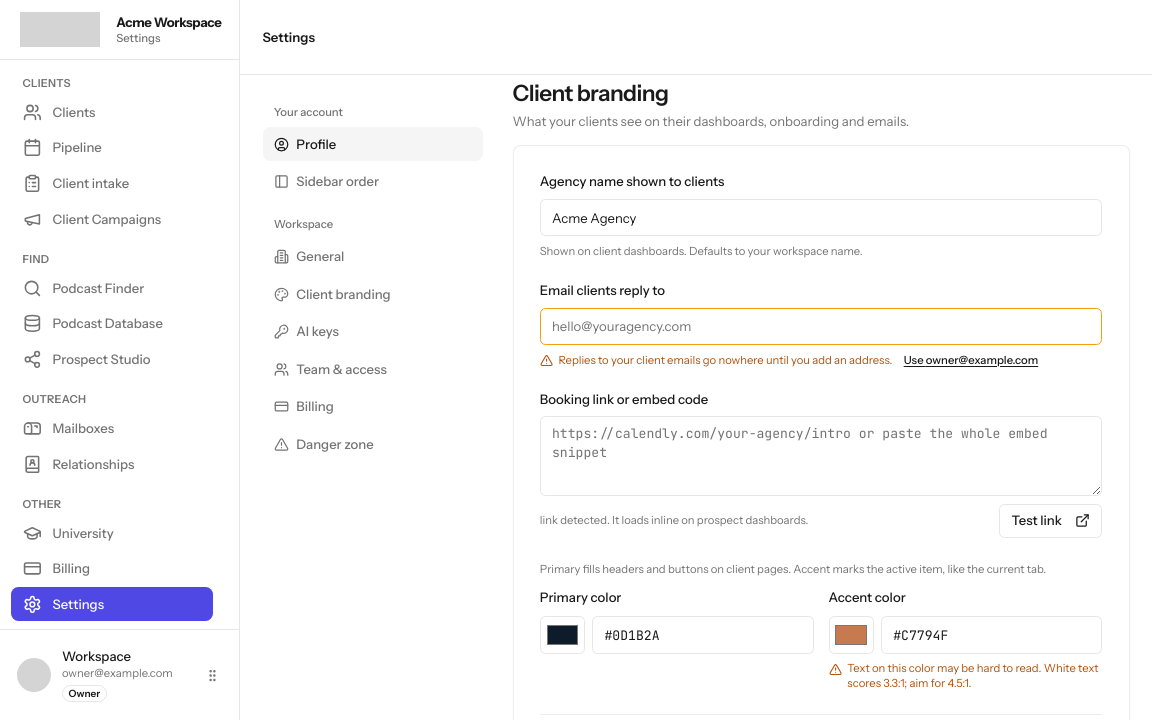
WorkspaceStaff › warns while the reply-to email is empty and offers the owner address
(page scrolled)
Check: the text "Replies to your client emails go nowhere until you add an address." is shown, box [540, 353, 892, 368]
What coordinates should you click on to do the following:
click the button "Use owner@example.com"
I would click on:
 (971, 360)
Its box is [904, 353, 1038, 368].
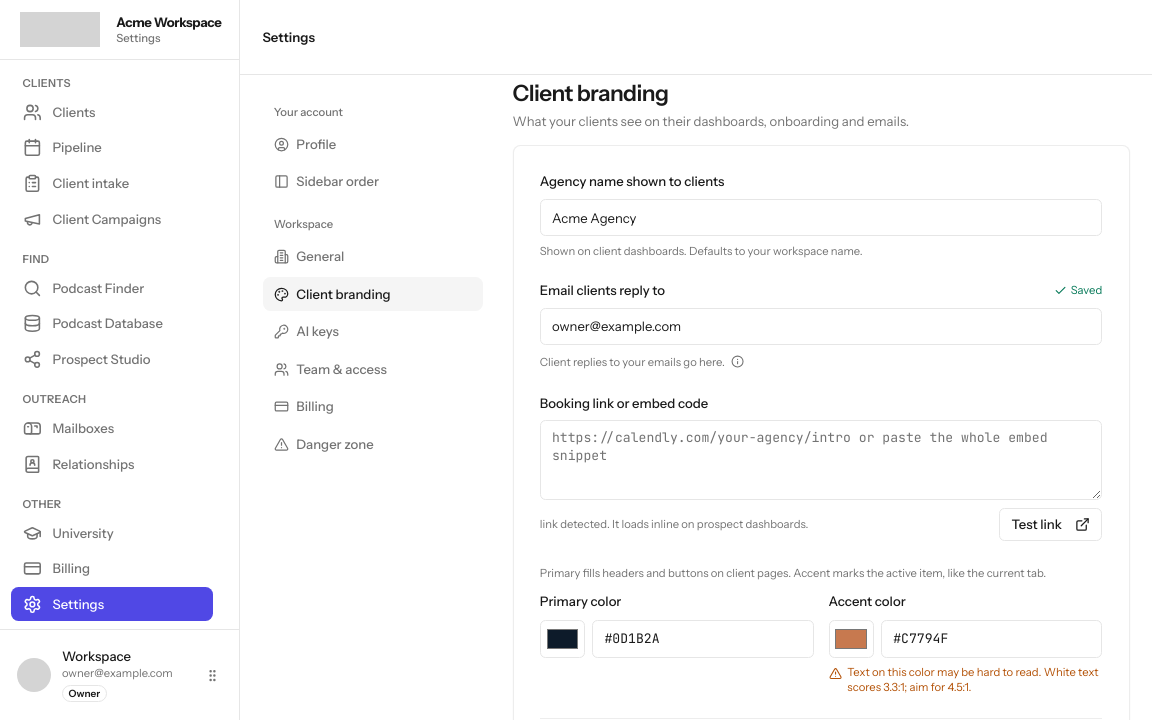
Check: the field labelled "Email clients reply to" holds "owner@example.com", box [540, 308, 1102, 345]
Check: the text "go nowhere" is gone
